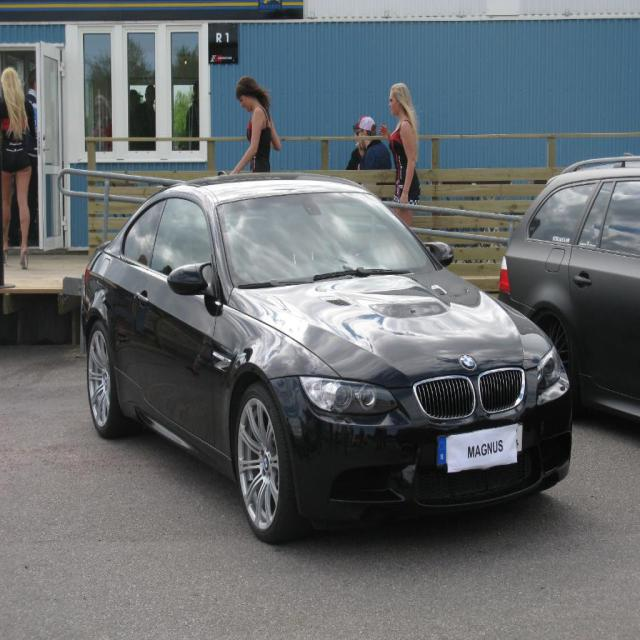car: (86, 162, 570, 541)
